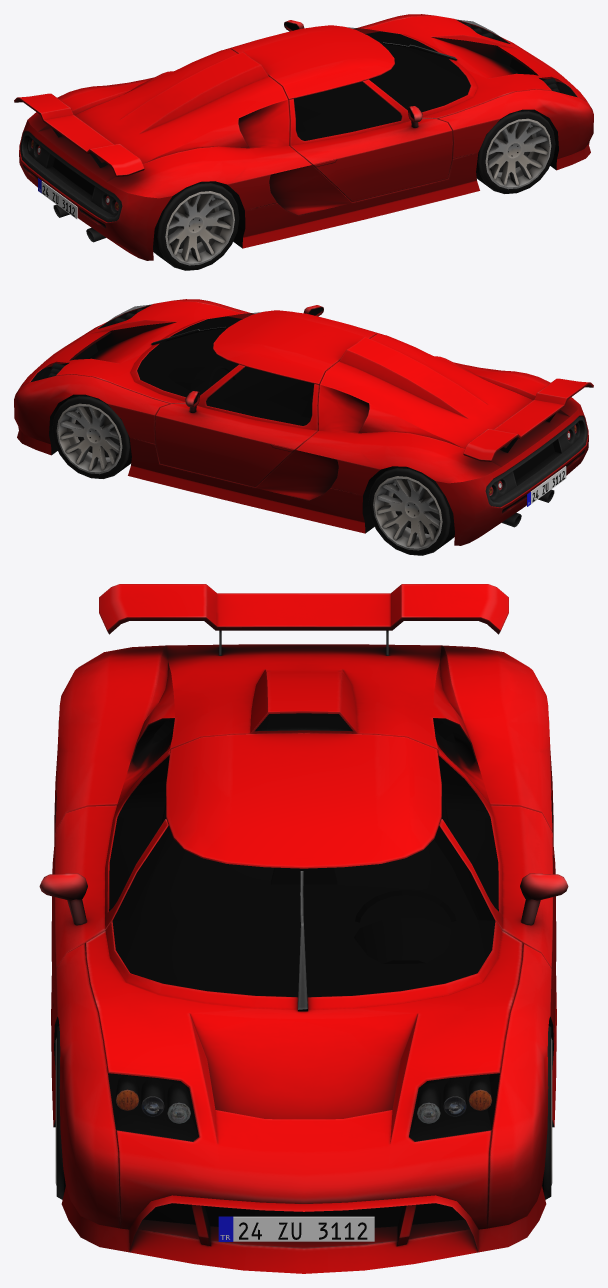
The model's file is CarPlated3557.dae.
3 renders of one model, top to bottom at view 1: azimuth 30°, elevation 25°; view 2: azimuth 150°, elevation 25°; view 3: azimuth 270°, elevation 25°, orthographic. The views are drawn at different scales.
Parts seen in each view (by area): view 1: CarPlated3557; view 2: CarPlated3557; view 3: CarPlated3557.
Part boxes in pixels (x1,y1,x2,y2): CarPlated3557: (14,14,593,270); CarPlated3557: (14,299,593,555); CarPlated3557: (39,584,568,1273).
Bounding box in the file's own units: 3.92 × 1.77 × 1.04.
